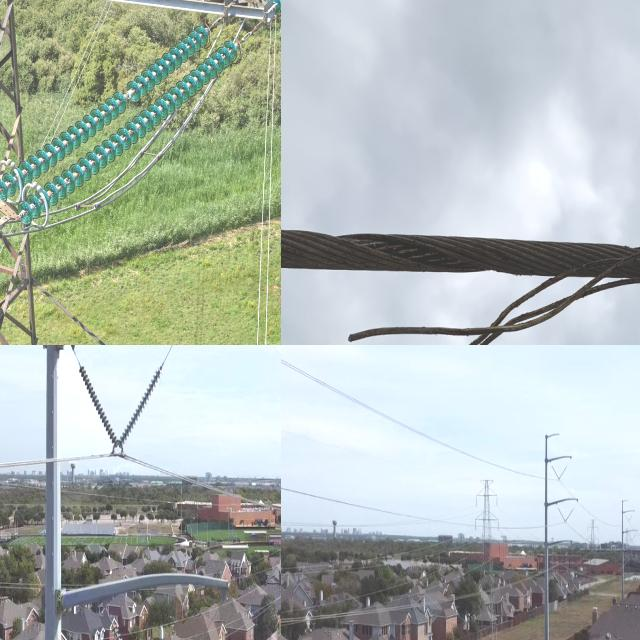杆塔: (465, 468, 505, 640), (584, 515, 600, 587)
正常绝缘子: (0, 16, 247, 230), (111, 353, 173, 464), (73, 357, 124, 457), (104, 611, 127, 640), (473, 518, 477, 532), (495, 496, 499, 510), (496, 516, 499, 532), (498, 542, 501, 558), (475, 495, 478, 507)
电缆破损: (307, 202, 640, 345)
绝缘子破损: (122, 88, 133, 104)
